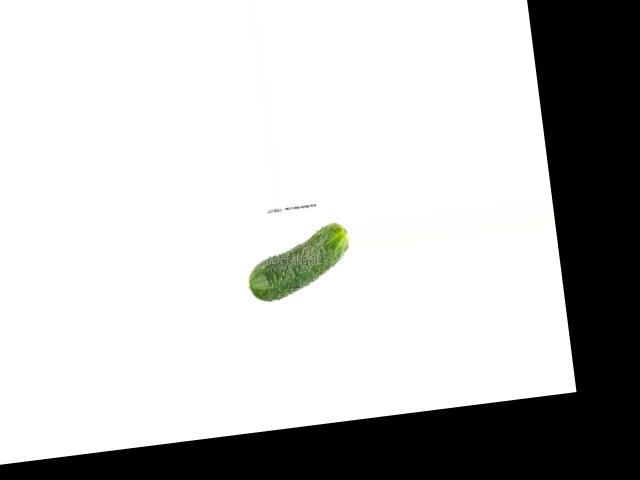cucumber: (241, 221, 354, 303)
